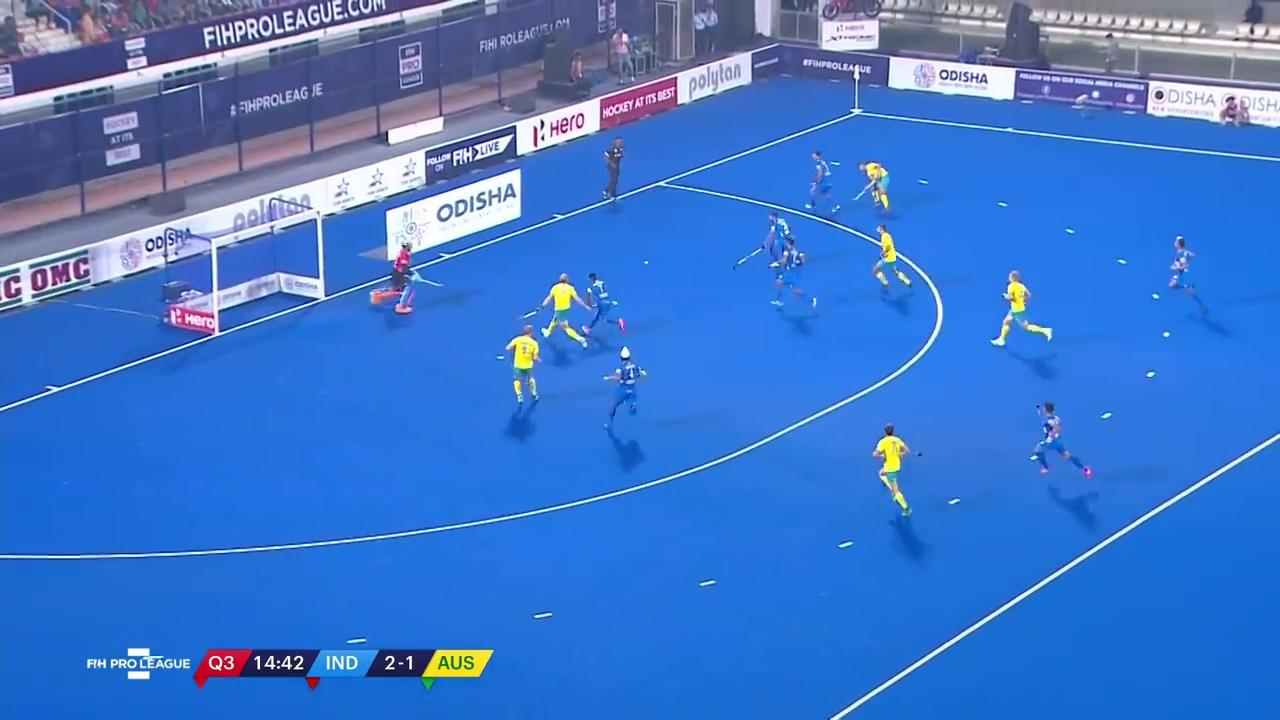ball: (641, 257, 650, 267)
